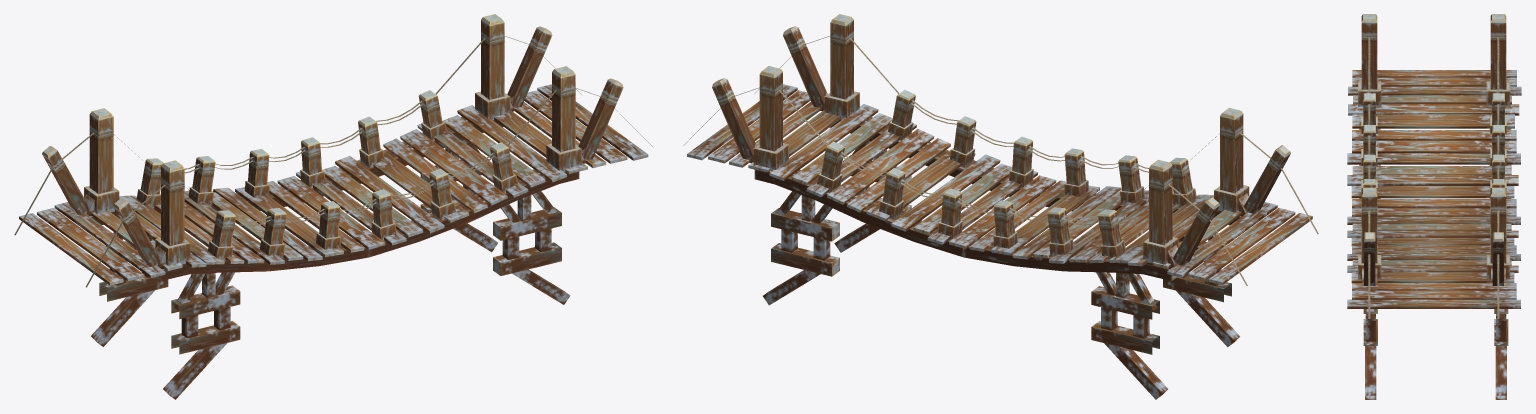
The model's file is Stage_BingYuan_XueQiao01.FBX.
3 views of the same model, side by side, from view 1: azimuth 30°, elevation 25°; view 2: azimuth 150°, elevation 25°; view 3: azimuth 270°, elevation 25° (orthographic). The views are drawn at different scales.
Visible parts, largest first — view 1: Stage_BingYuan_XueQiao01; view 2: Stage_BingYuan_XueQiao01; view 3: Stage_BingYuan_XueQiao01.
Boxes of the visible parts, x1,y1,x2,y2 form: Stage_BingYuan_XueQiao01: (14, 14, 652, 399); Stage_BingYuan_XueQiao01: (683, 14, 1318, 399); Stage_BingYuan_XueQiao01: (1347, 14, 1521, 399).
Bounding box in the file's own units: 1683 × 663 × 495.
